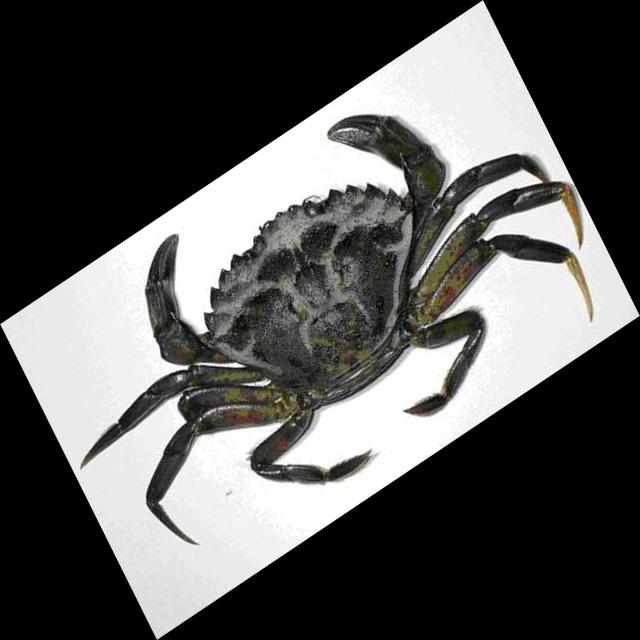European Green crab: (81, 114, 593, 544)
